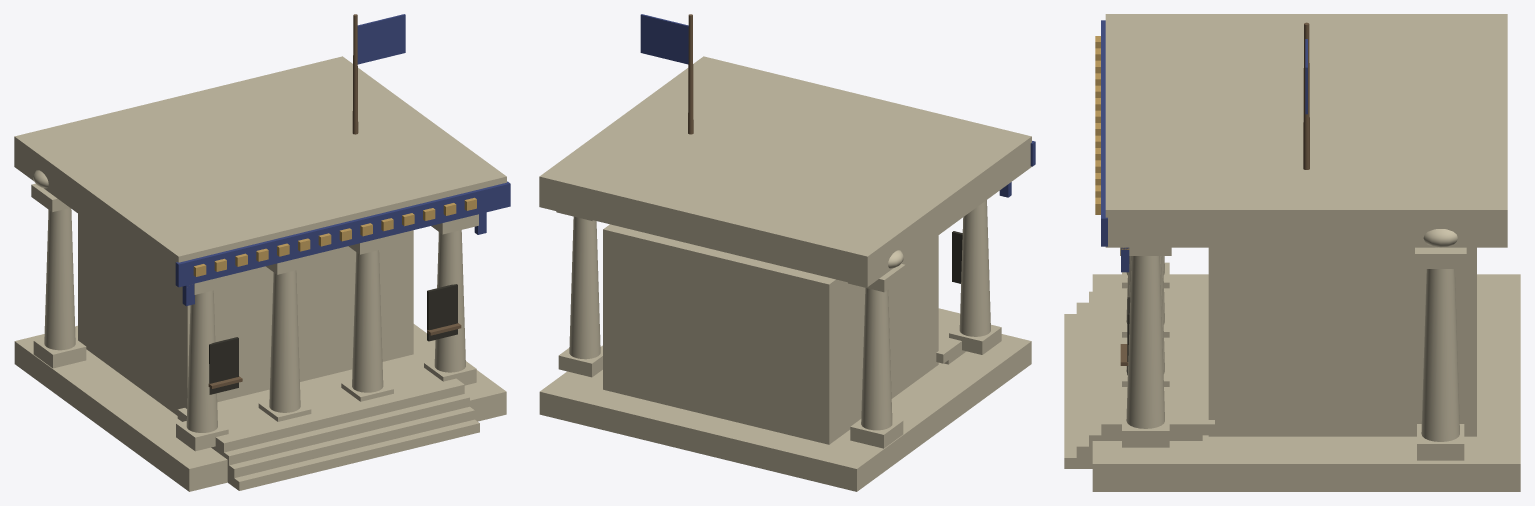
The model's file is b-healing-persian.glb.
3 views of the same model, side by side, from view 1: azimuth 30°, elevation 25°; view 2: azimuth 150°, elevation 25°; view 3: azimuth 270°, elevation 25° (orthographic). The views are drawn at different scales.
Visible parts, largest first — view 1: Structure; view 2: Structure; view 3: Structure.
Part boxes in pixels (x1,y1,x2,y2): Structure: (14,14,510,491); Structure: (539,14,1035,491); Structure: (1064,14,1520,491).
Bounding box in the file's own units: 4.68 × 4.6 × 4.42.
